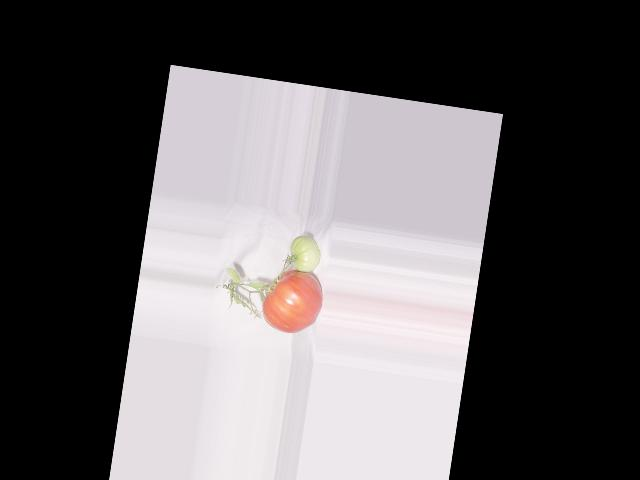tomato: (259, 265, 326, 337)
